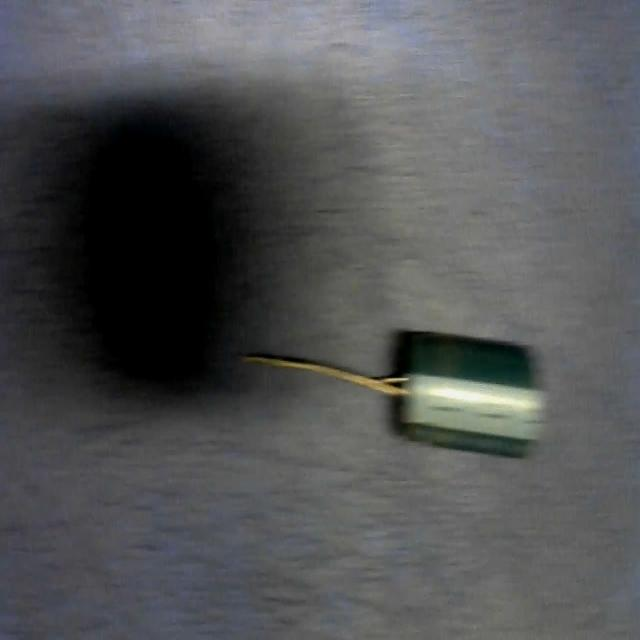capacitor: (246, 331, 540, 460)
